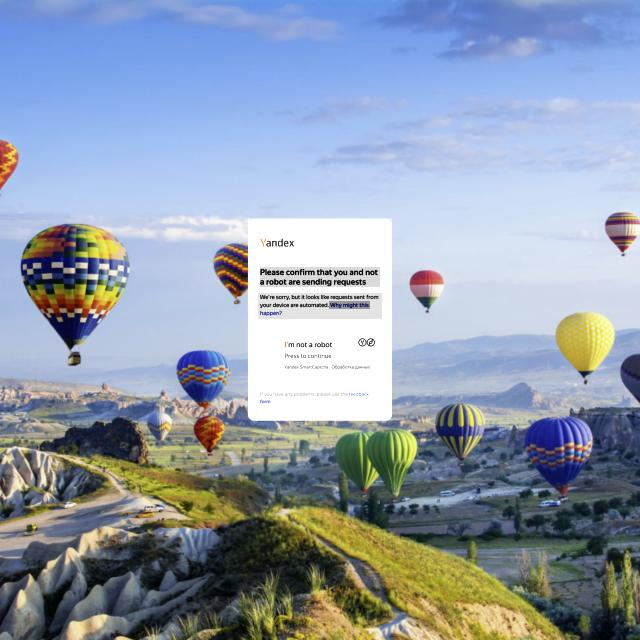CheckBox: (329, 301, 370, 309), (349, 391, 371, 398), (267, 339, 278, 352)
Input field: (258, 293, 382, 319), (258, 390, 375, 406), (284, 352, 333, 360)
breadcrumbs: (260, 267, 380, 287)
date picker: (260, 236, 296, 250)
header: (248, 218, 392, 420)
